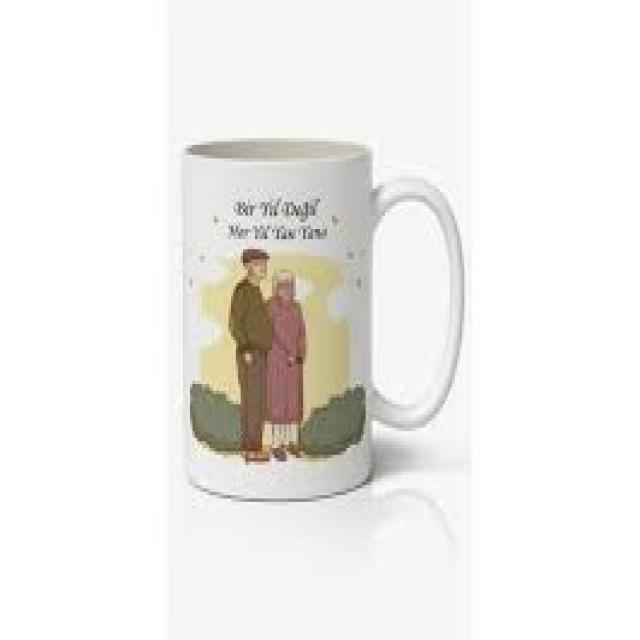taza: (182, 137, 464, 502)
